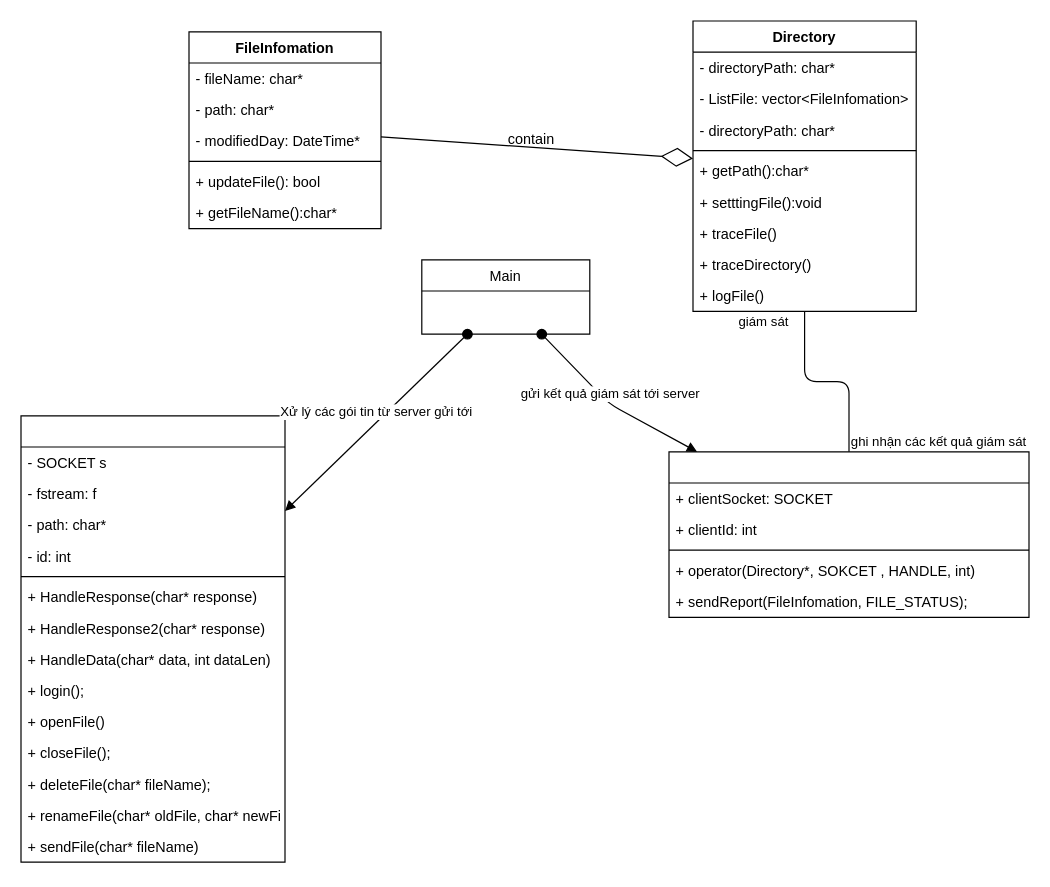
This 1050x887 diagram has some shape labels left out. The shapes that lost their labels are listed below. From the top down, each one's box as (x1, y1, x2, y2) in pixels, then its label:
(668, 451, 1029, 617): ReportChange
(20, 415, 285, 862): ClientHandleRequest
